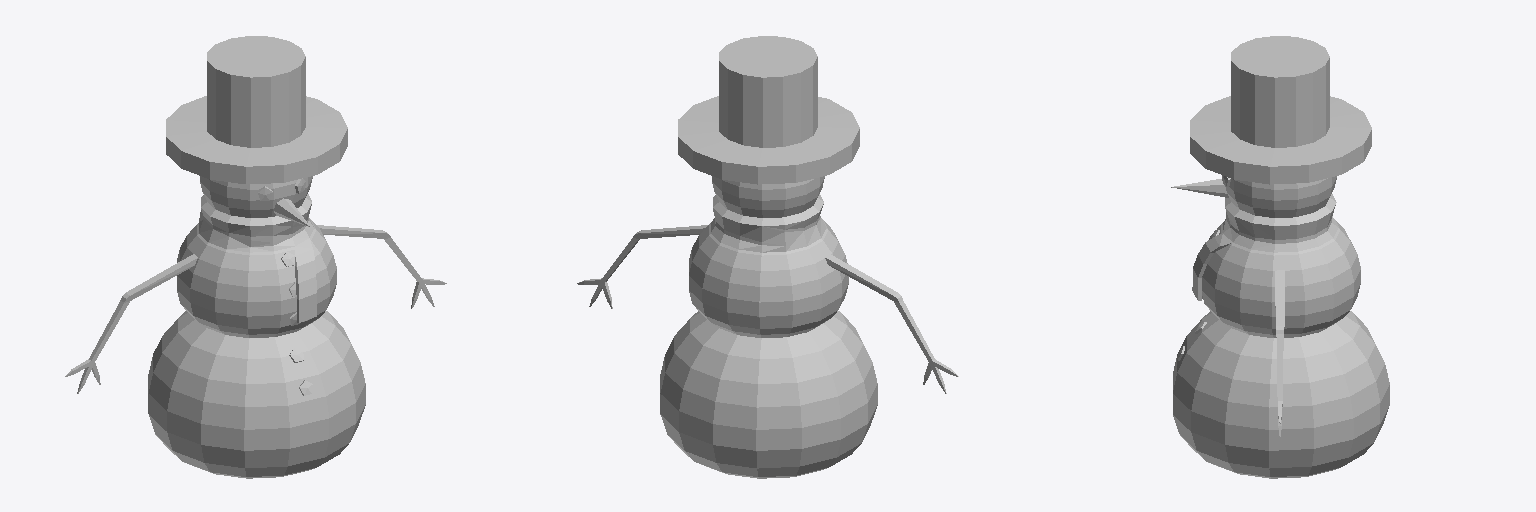
Rendered from snowman.obj.
The picture shows the model from 3 angles: view 1: azimuth 30°, elevation 25°; view 2: azimuth 150°, elevation 25°; view 3: azimuth 270°, elevation 25°; orthographic projection.
Visible parts, largest first — view 1: BODY.001, SOMBRERO.002, BUFANDA.004, BRAZOS.002, BOTON.007; view 2: BODY.001, SOMBRERO.002, BUFANDA.004, BRAZOS.002; view 3: BODY.001, SOMBRERO.002, BUFANDA.004, BRAZOS.002, NARIZ.002.
Part boxes in pixels (left/top/right/bottom): BODY.001: left=148, top=176, right=365, bottom=478; SOMBRERO.002: left=166, top=36, right=347, bottom=184; BUFANDA.004: left=199, top=194, right=316, bottom=322; BRAZOS.002: left=65, top=225, right=446, bottom=393; BOTON.007: left=281, top=252, right=312, bottom=395; BODY.001: left=660, top=176, right=877, bottom=478; SOMBRERO.002: left=678, top=36, right=859, bottom=184; BUFANDA.004: left=711, top=194, right=825, bottom=252; BRAZOS.002: left=577, top=225, right=958, bottom=393; BODY.001: left=1173, top=176, right=1389, bottom=478; SOMBRERO.002: left=1190, top=36, right=1371, bottom=184; BUFANDA.004: left=1192, top=194, right=1337, bottom=300; BRAZOS.002: left=1275, top=270, right=1284, bottom=436; NARIZ.002: left=1171, top=179, right=1228, bottom=197.
Bounding box in the file's own units: 7.55 × 7.51 × 3.76.